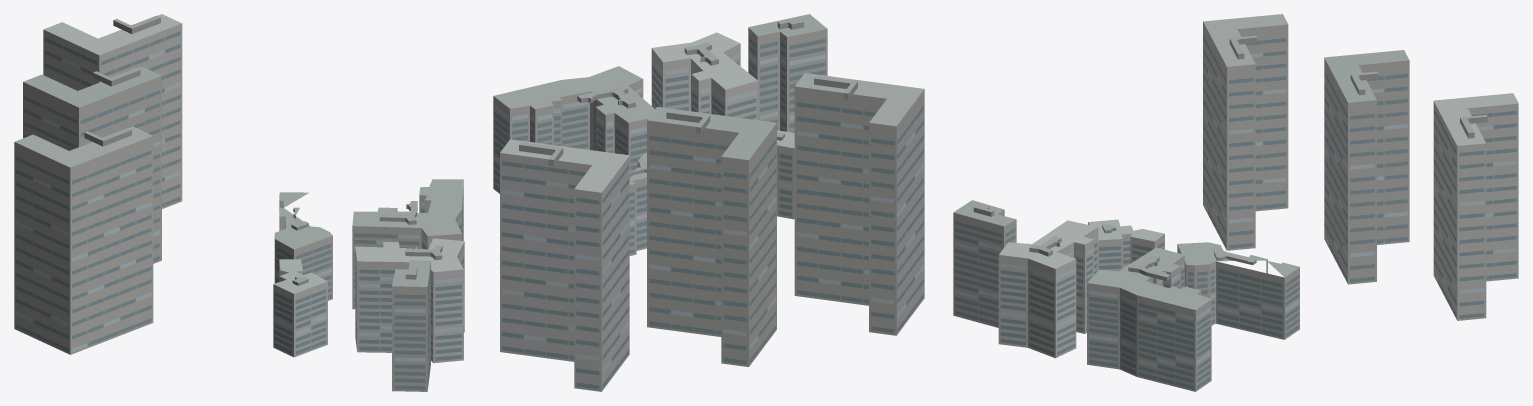
File: apt-a10026180.glb
3 views of the same model, side by side, from view 1: azimuth 30°, elevation 25°; view 2: azimuth 150°, elevation 25°; view 3: azimuth 270°, elevation 25° (orthographic). The views are drawn at different scales.
Visible parts, largest first — view 1: apt-a10026180; view 2: apt-a10026180; view 3: apt-a10026180.
Part boxes in pixels (x1,y1,x2,y2): apt-a10026180: (14,14,464,391); apt-a10026180: (493,14,924,391); apt-a10026180: (953,14,1518,391).
Bounding box in the file's own units: 185 × 84 × 227.
